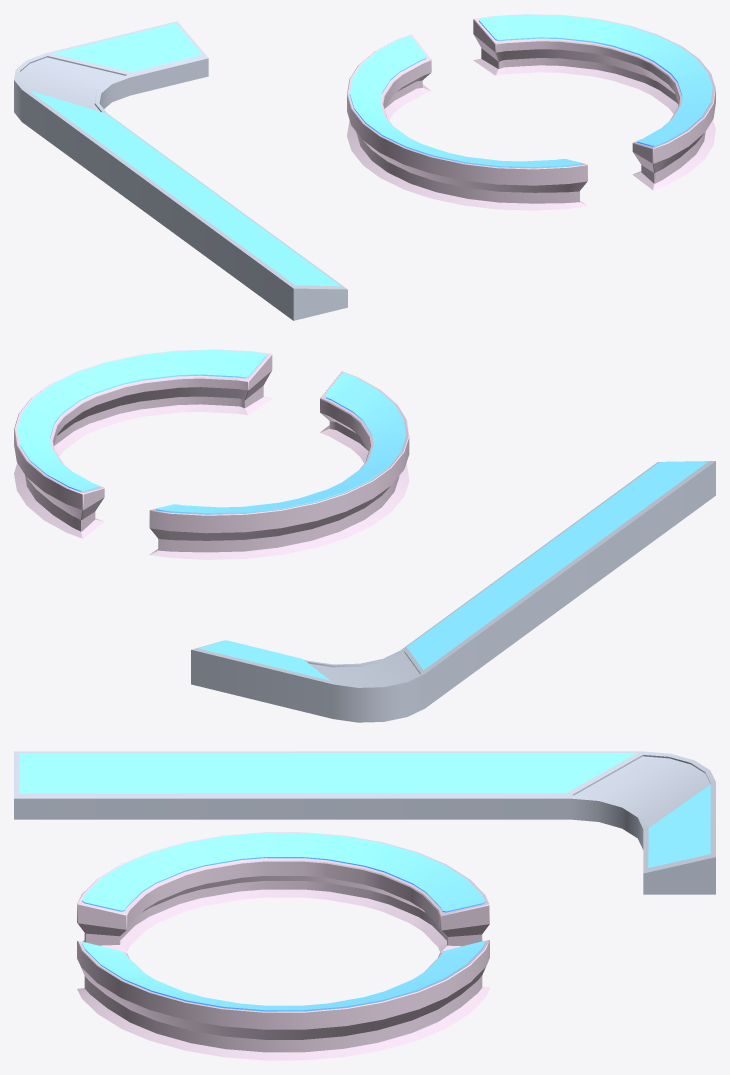
Rendered from TourFini_Correction_2.fbx.
3 renders of one model, top to bottom at view 1: azimuth 30°, elevation 25°; view 2: azimuth 150°, elevation 25°; view 3: azimuth 270°, elevation 25°, orthographic. The views are drawn at different scales.
Parts seen in each view (by area): view 1: Bureau_006, Bureau_005, Bureau_004; view 2: Bureau_006, Bureau_005, Bureau_004; view 3: Bureau_006, Bureau_004, Bureau_005.
Boxes of the visible parts, x1,y1,x2,y2 form: Bureau_006: (14, 21, 347, 320); Bureau_005: (473, 14, 715, 190); Bureau_004: (347, 34, 587, 210); Bureau_006: (191, 461, 715, 722); Bureau_005: (14, 349, 272, 538); Bureau_004: (149, 371, 409, 559); Bureau_006: (14, 751, 715, 894); Bureau_004: (77, 832, 489, 952); Bureau_005: (77, 940, 489, 1060).
Bounding box in the file's own units: 1891 × 206 × 1931.
